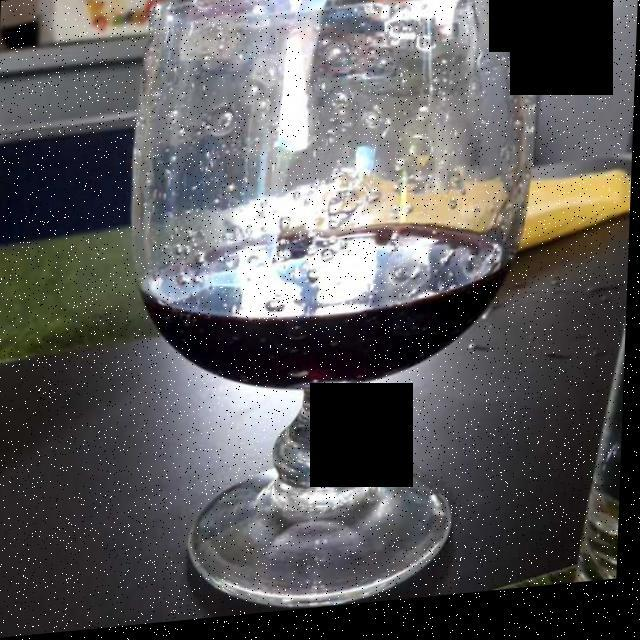wine: (139, 221, 523, 392)
